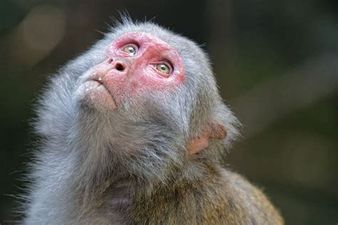monkey: (35, 15, 293, 220)
